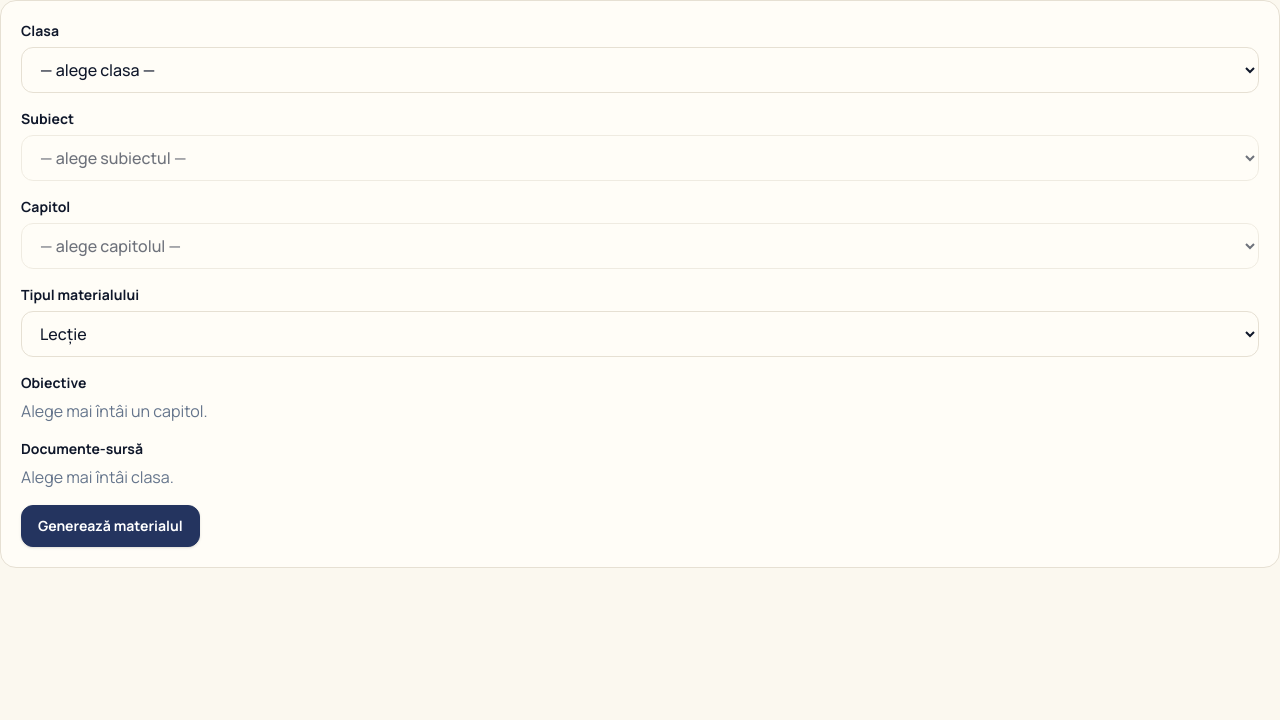
Test: the form's choices › shows the question count only for kinds that have questions
Check: the dropdown labelled "Clasa" is shown, box [21,47,1259,93]
Check: the field labelled "Număr de întrebări" is not shown
Select "Test" in the dropdown labelled "Tipul materialului" at point(640, 334), box [21,311,1259,357]
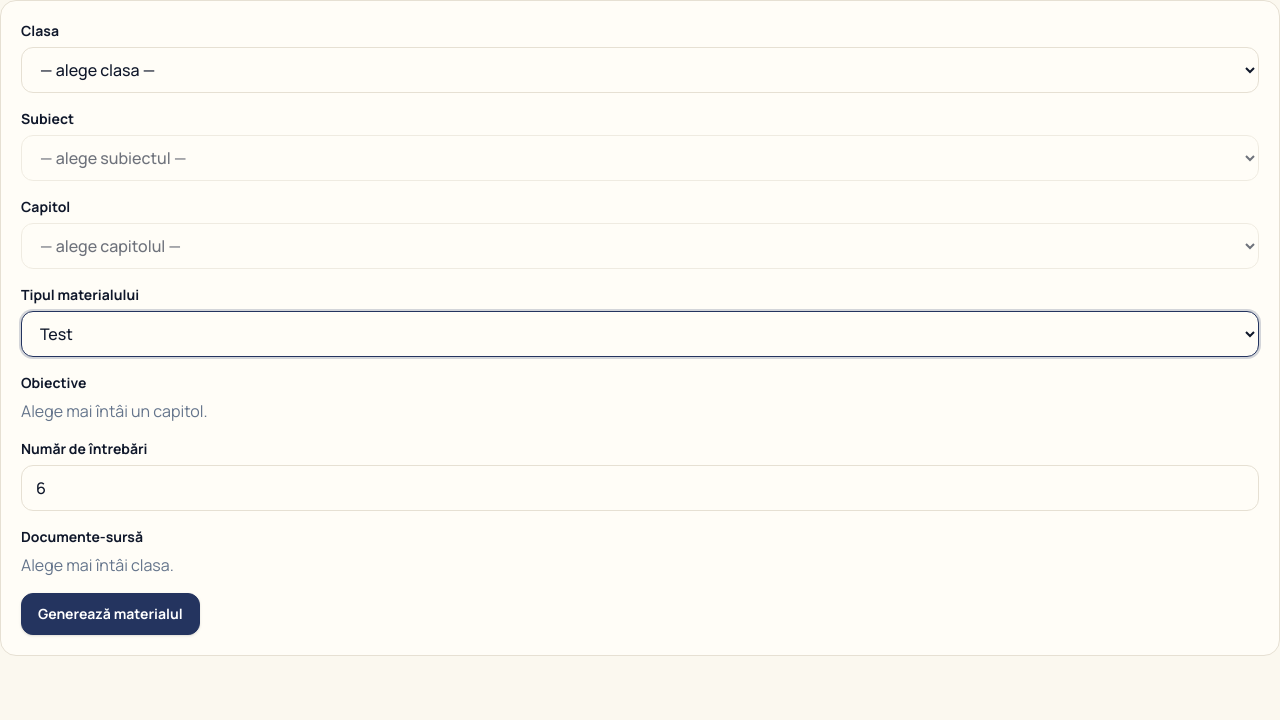
Check: the number field labelled "Număr de întrebări" is shown, box [21,465,1259,511]
Select "Probleme" in the dropdown labelled "Tipul materialului" at point(640, 334), box [21,311,1259,357]
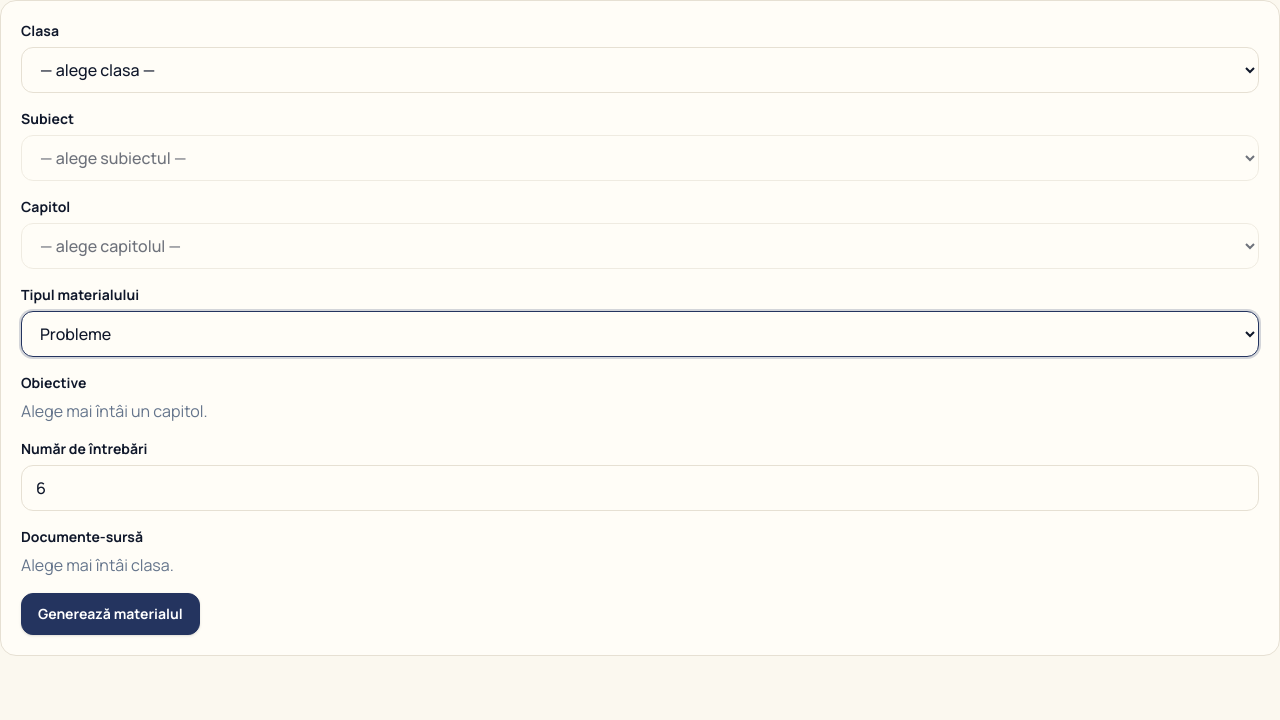
Check: the number field labelled "Număr de întrebări" is shown, box [21,465,1259,511]
Select "Exerciții" in the dropdown labelled "Tipul materialului" at point(640, 334), box [21,311,1259,357]
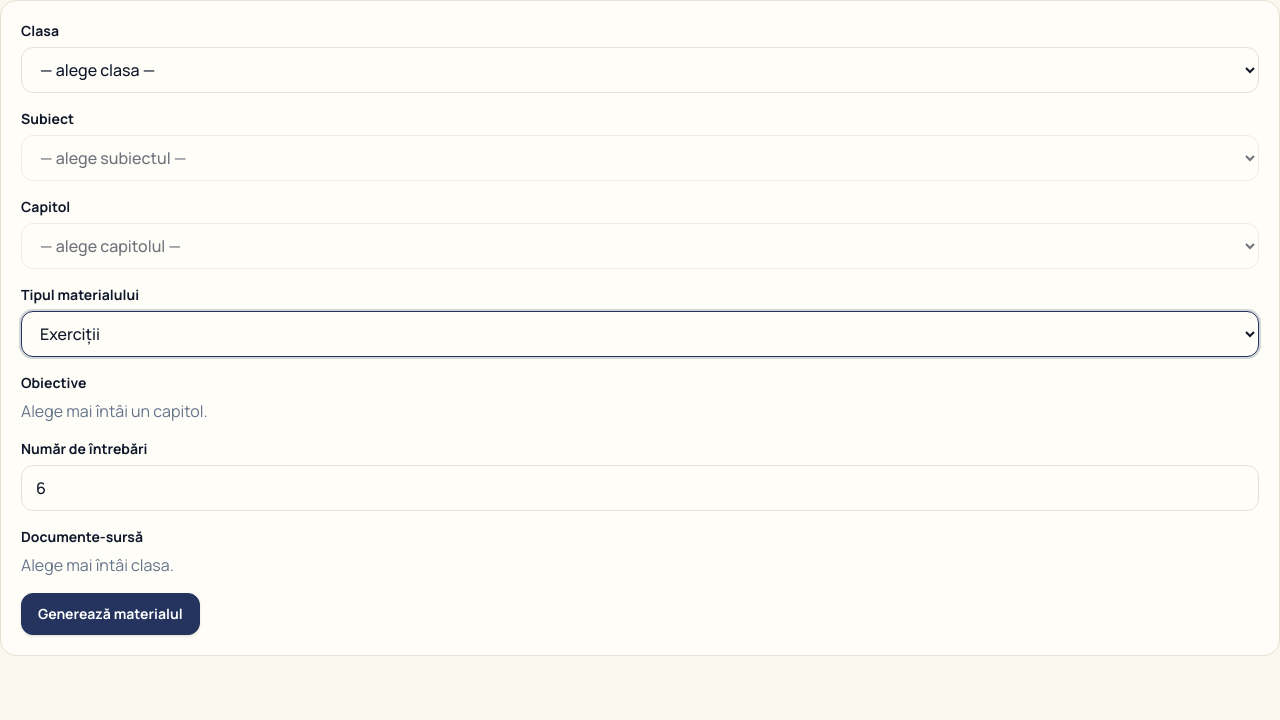
Check: the number field labelled "Număr de întrebări" is shown, box [21,465,1259,511]
Select "Lecție" in the dropdown labelled "Tipul materialului" at point(640, 334), box [21,311,1259,357]
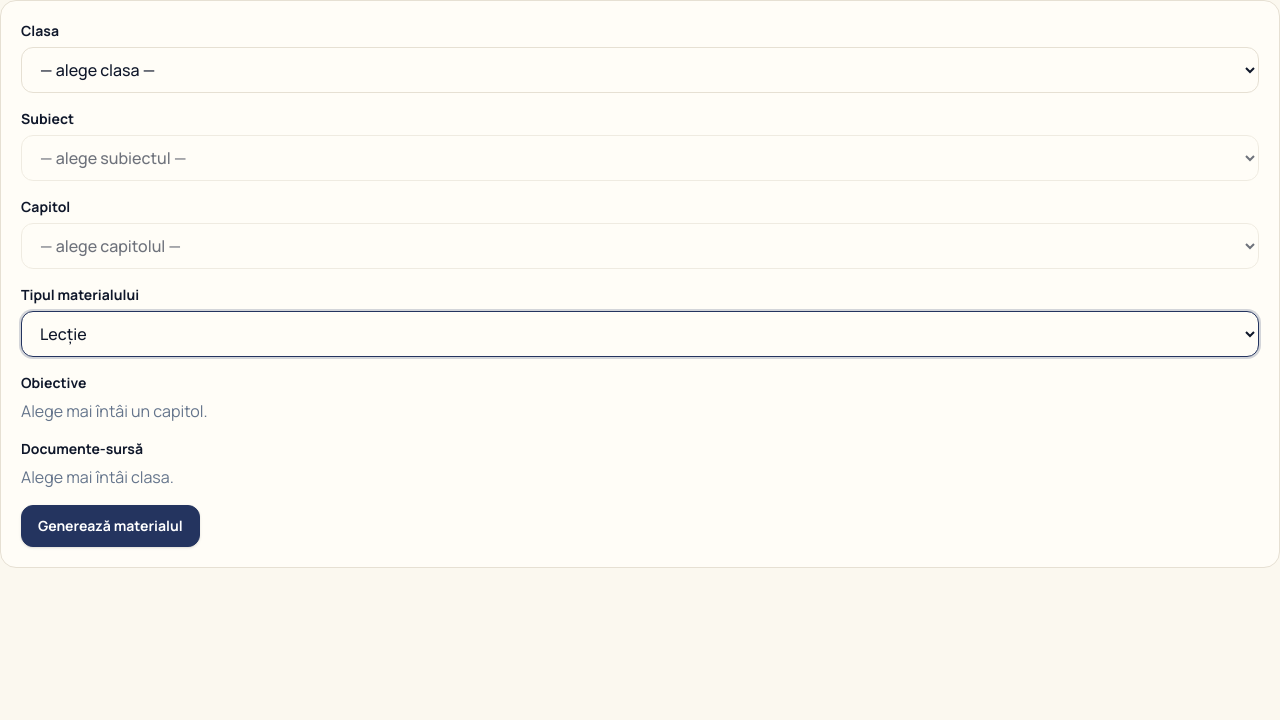
Check: the label labelled "Număr de întrebări" is gone
